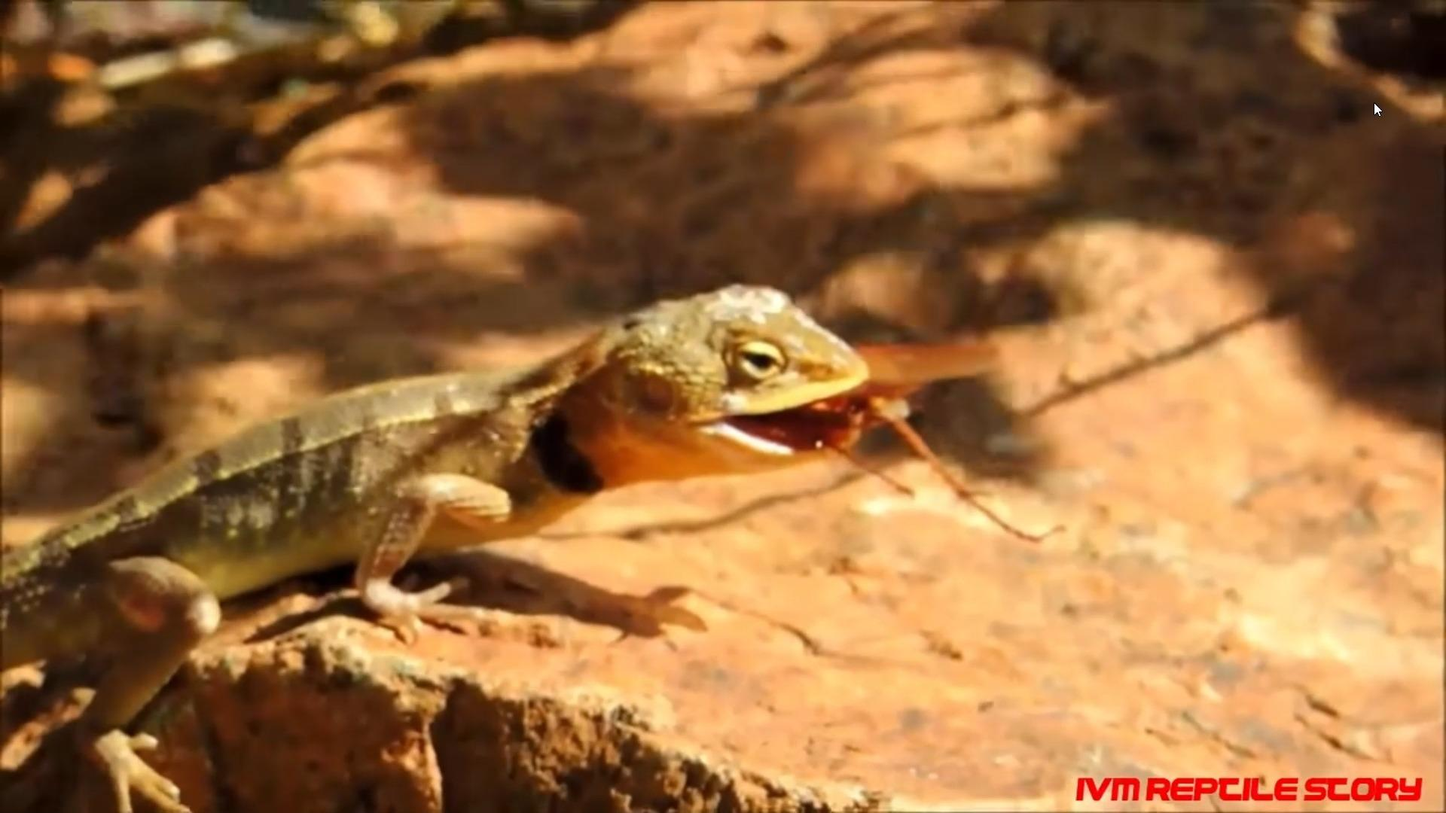cockroach: (814, 398, 975, 518)
lizard: (24, 259, 876, 717)
